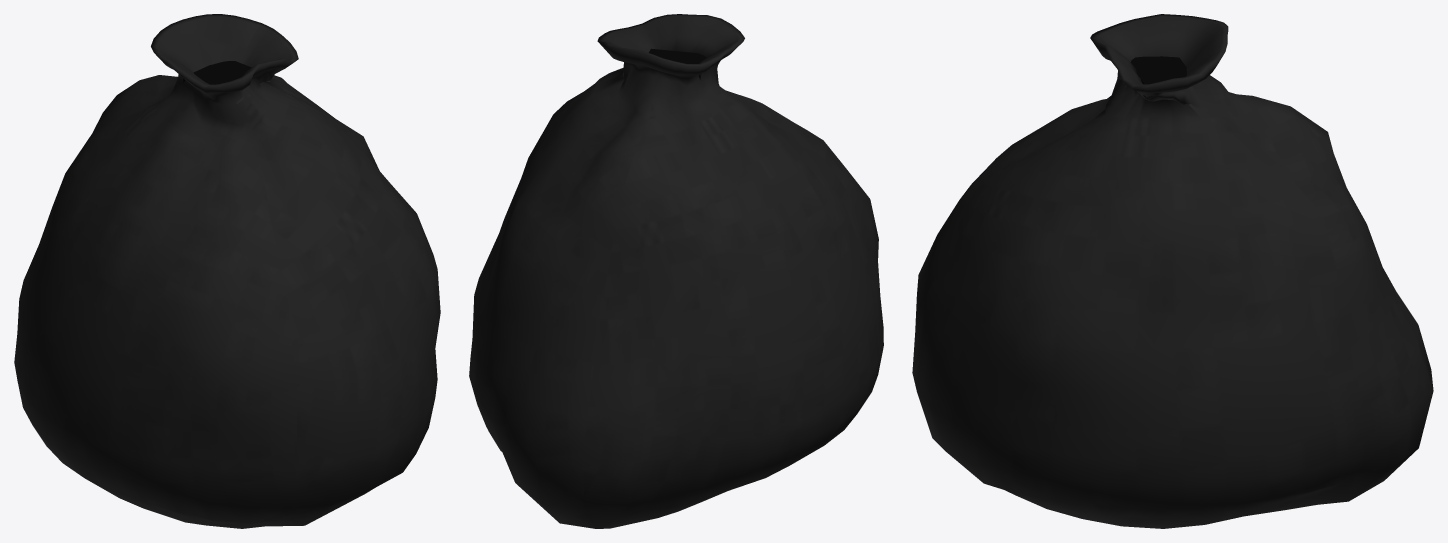
File: Trash11.fbx
3 renders of one model, left to right at view 1: azimuth 30°, elevation 25°; view 2: azimuth 150°, elevation 25°; view 3: azimuth 270°, elevation 25°, orthographic. The views are drawn at different scales.
Parts seen in each view (by area): view 1: bag2, Box001; view 2: bag2, Box001; view 3: bag2, Box001.
Part boxes in pixels (x1=…): bag2: x1=14, y1=14, x2=440, y2=528; Box001: x1=183, y1=61, x2=251, y2=84; bag2: x1=469, y1=14, x2=883, y2=528; Box001: x1=649, y1=48, x2=706, y2=79; bag2: x1=912, y1=14, x2=1433, y2=528; Box001: x1=1130, y1=56, x2=1186, y2=84.
Bounding box in the file's own units: 40.51 × 50.01 × 50.42.
